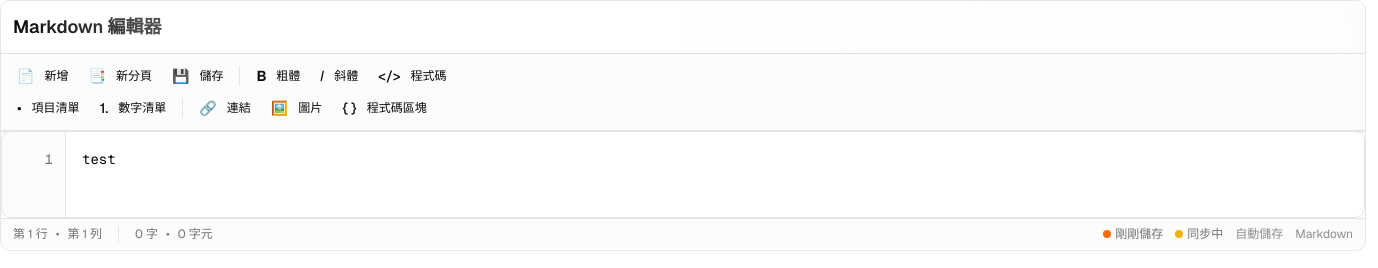
EditorPanel › should handle different formatting actions correctly
The width and height of the screenshot is (1378, 268).
Click the button with test id "toolbar-italic": x=339, y=76 left=312, top=62, right=366, bottom=90
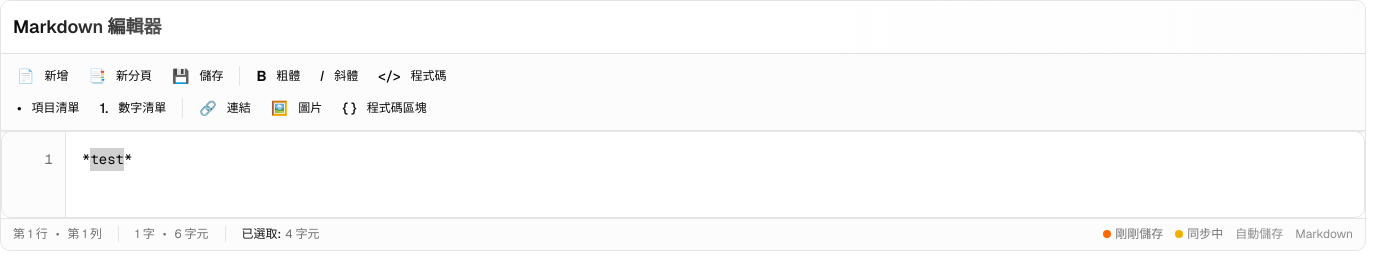
Expected: the text box with test id "editor-textarea" holds "*test*"
Replace the text in the text box with test id "editor-textarea" with "code": x=715, y=174 left=66, top=132, right=1364, bottom=216
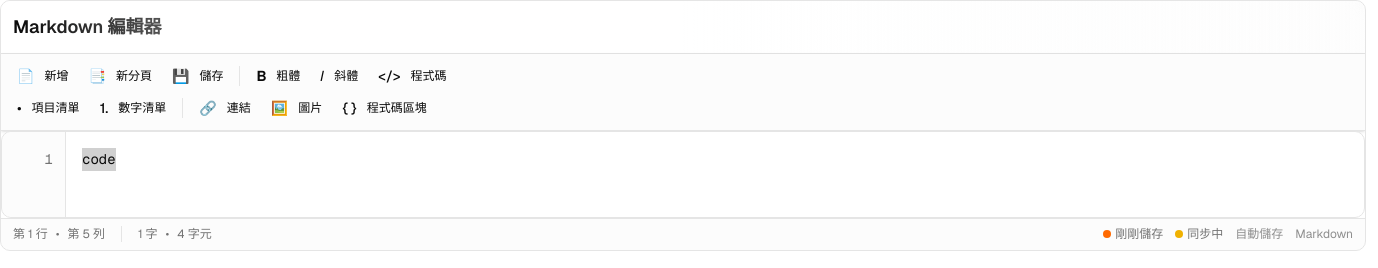
Click the button with test id "toolbar-code": x=412, y=76 left=370, top=62, right=454, bottom=90
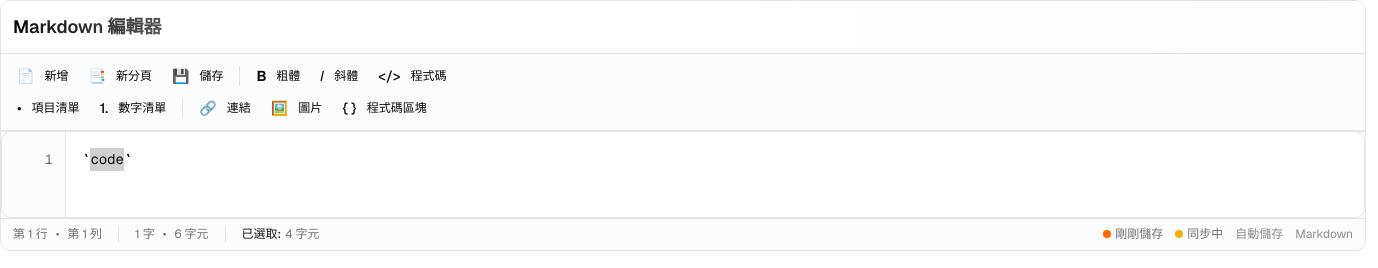
Expected: the text box with test id "editor-textarea" holds "`code`", left=66, top=132, right=1364, bottom=216
